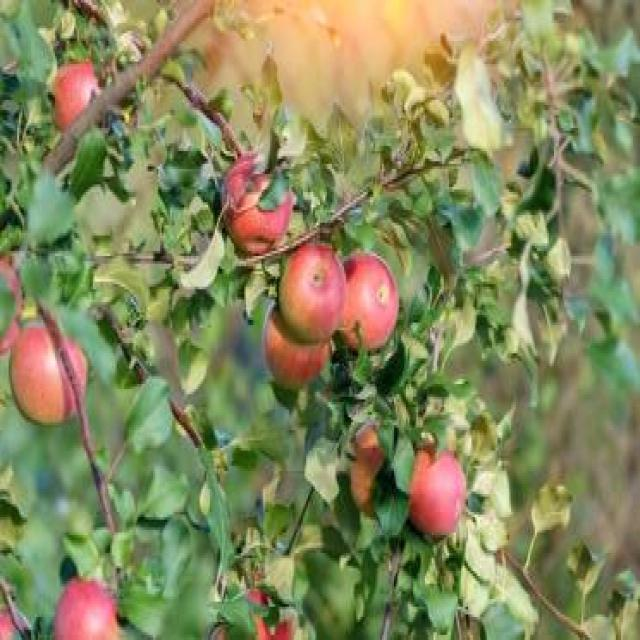fruit: (207, 106, 299, 252), (11, 324, 88, 424), (278, 243, 346, 341), (338, 252, 400, 351), (50, 55, 112, 145), (264, 309, 329, 389), (407, 448, 466, 536), (53, 577, 120, 639), (348, 423, 388, 511), (248, 588, 294, 639), (0, 259, 24, 351), (0, 607, 21, 639)
